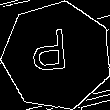P_S: (37, 29, 77, 82)
